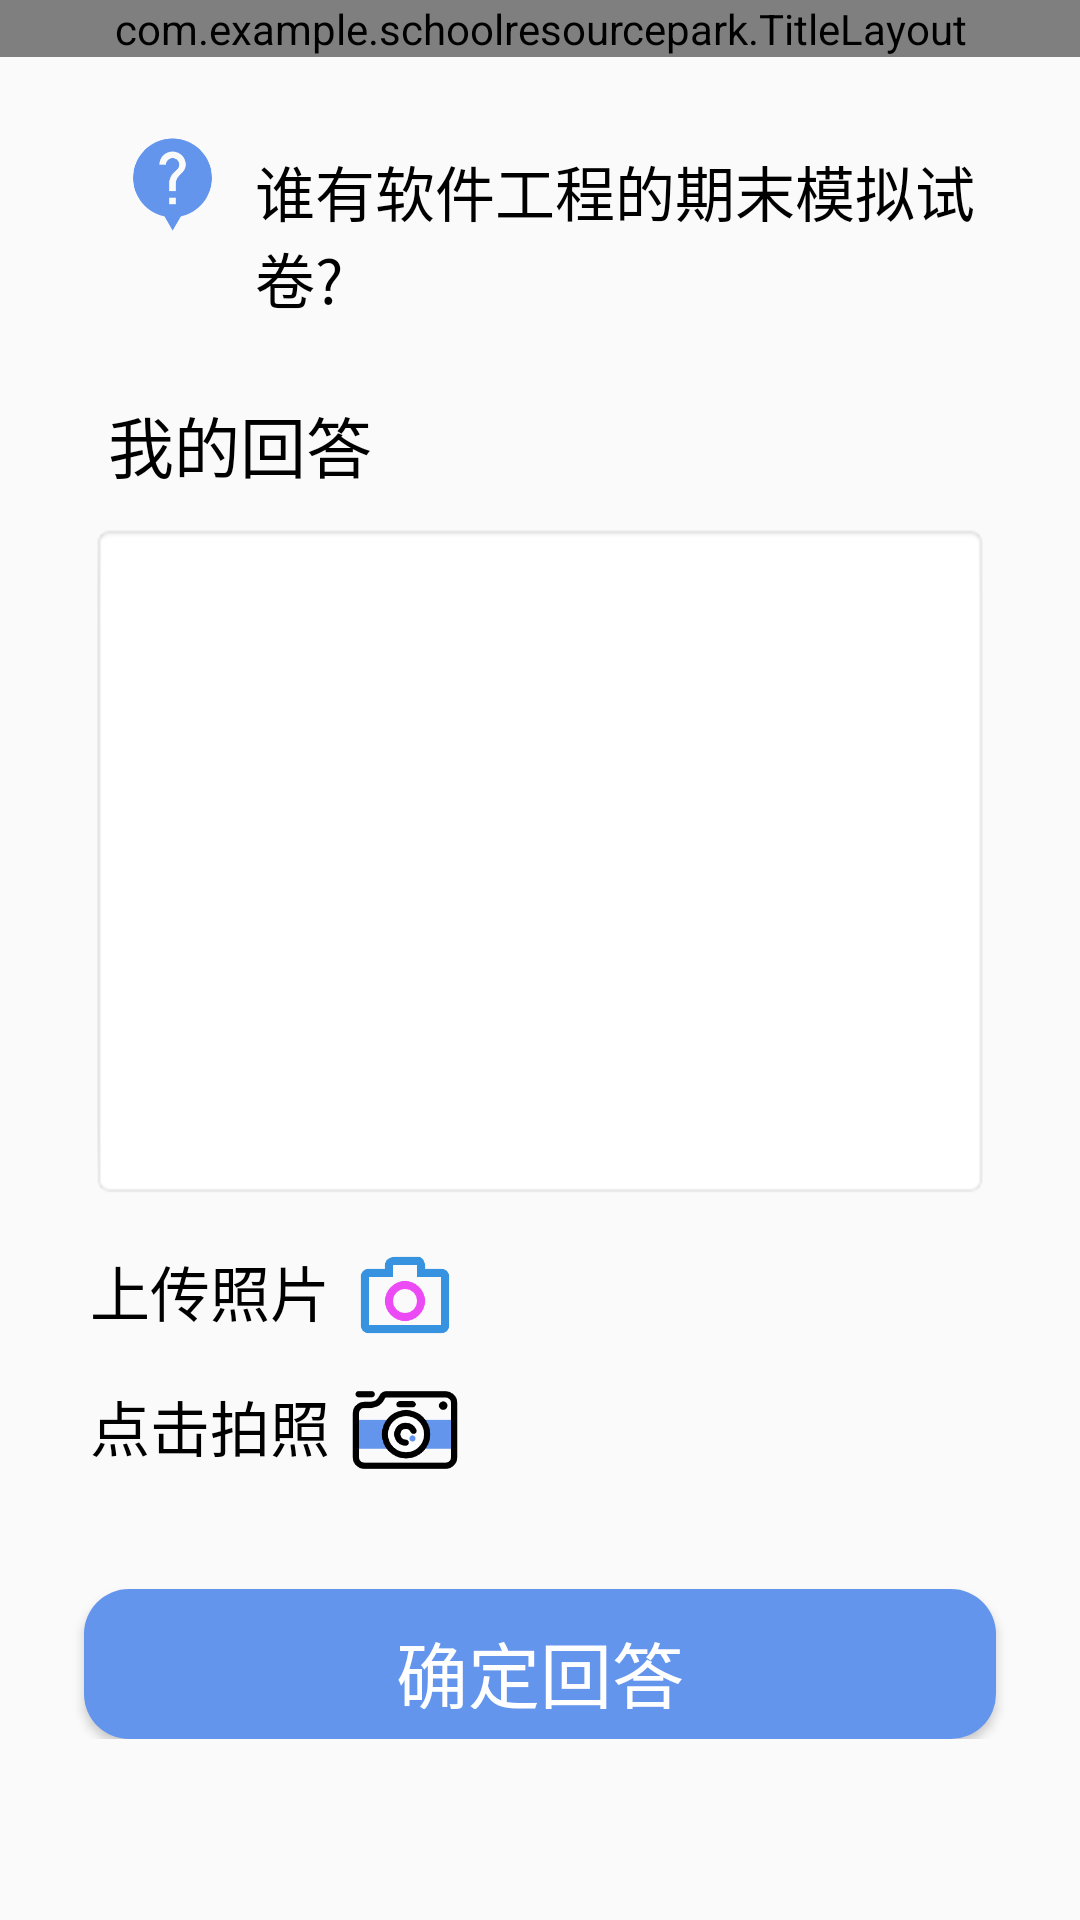

Icon click points for this 1080px×1920px phone screenshot, format [x,y]:
photo: [405,1295], [405,1430]
problem: [172,184]
